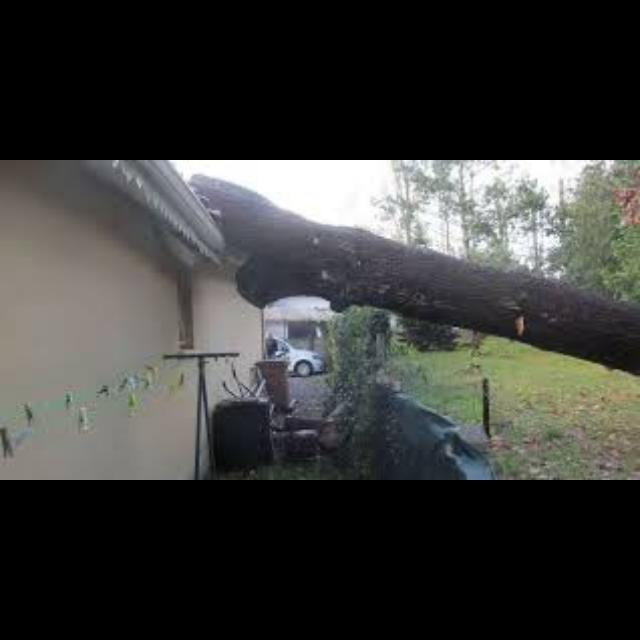Fallen Tree: (187, 170, 639, 378)
